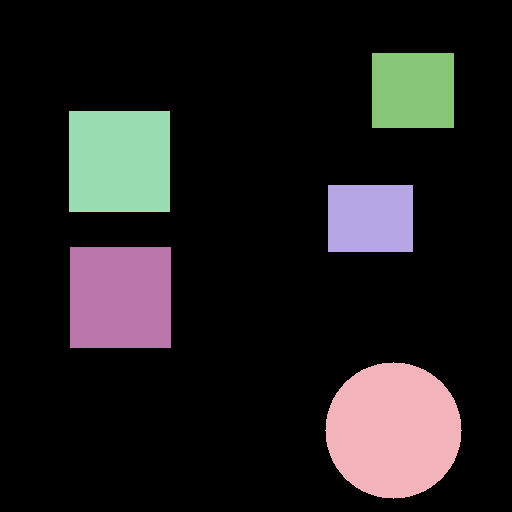circle: (325, 362, 461, 498)
rectangle: (328, 185, 412, 251)
square: (70, 247, 170, 347), (69, 111, 169, 211), (372, 53, 453, 127)
